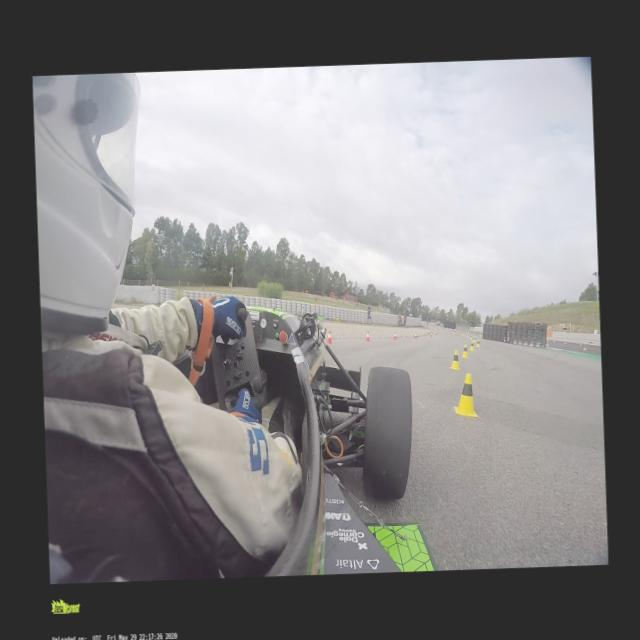orange_cone: (326, 330, 332, 343), (364, 331, 369, 342), (392, 331, 396, 340), (413, 332, 417, 338), (429, 331, 432, 336), (434, 330, 436, 334)
yellow_cone: (452, 372, 478, 418), (448, 350, 460, 370), (460, 344, 468, 358), (468, 340, 474, 350), (476, 339, 480, 347), (472, 336, 476, 341), (582, 345, 586, 350), (466, 333, 469, 338), (462, 332, 465, 336), (469, 335, 472, 339), (546, 340, 548, 346), (460, 331, 462, 335)
